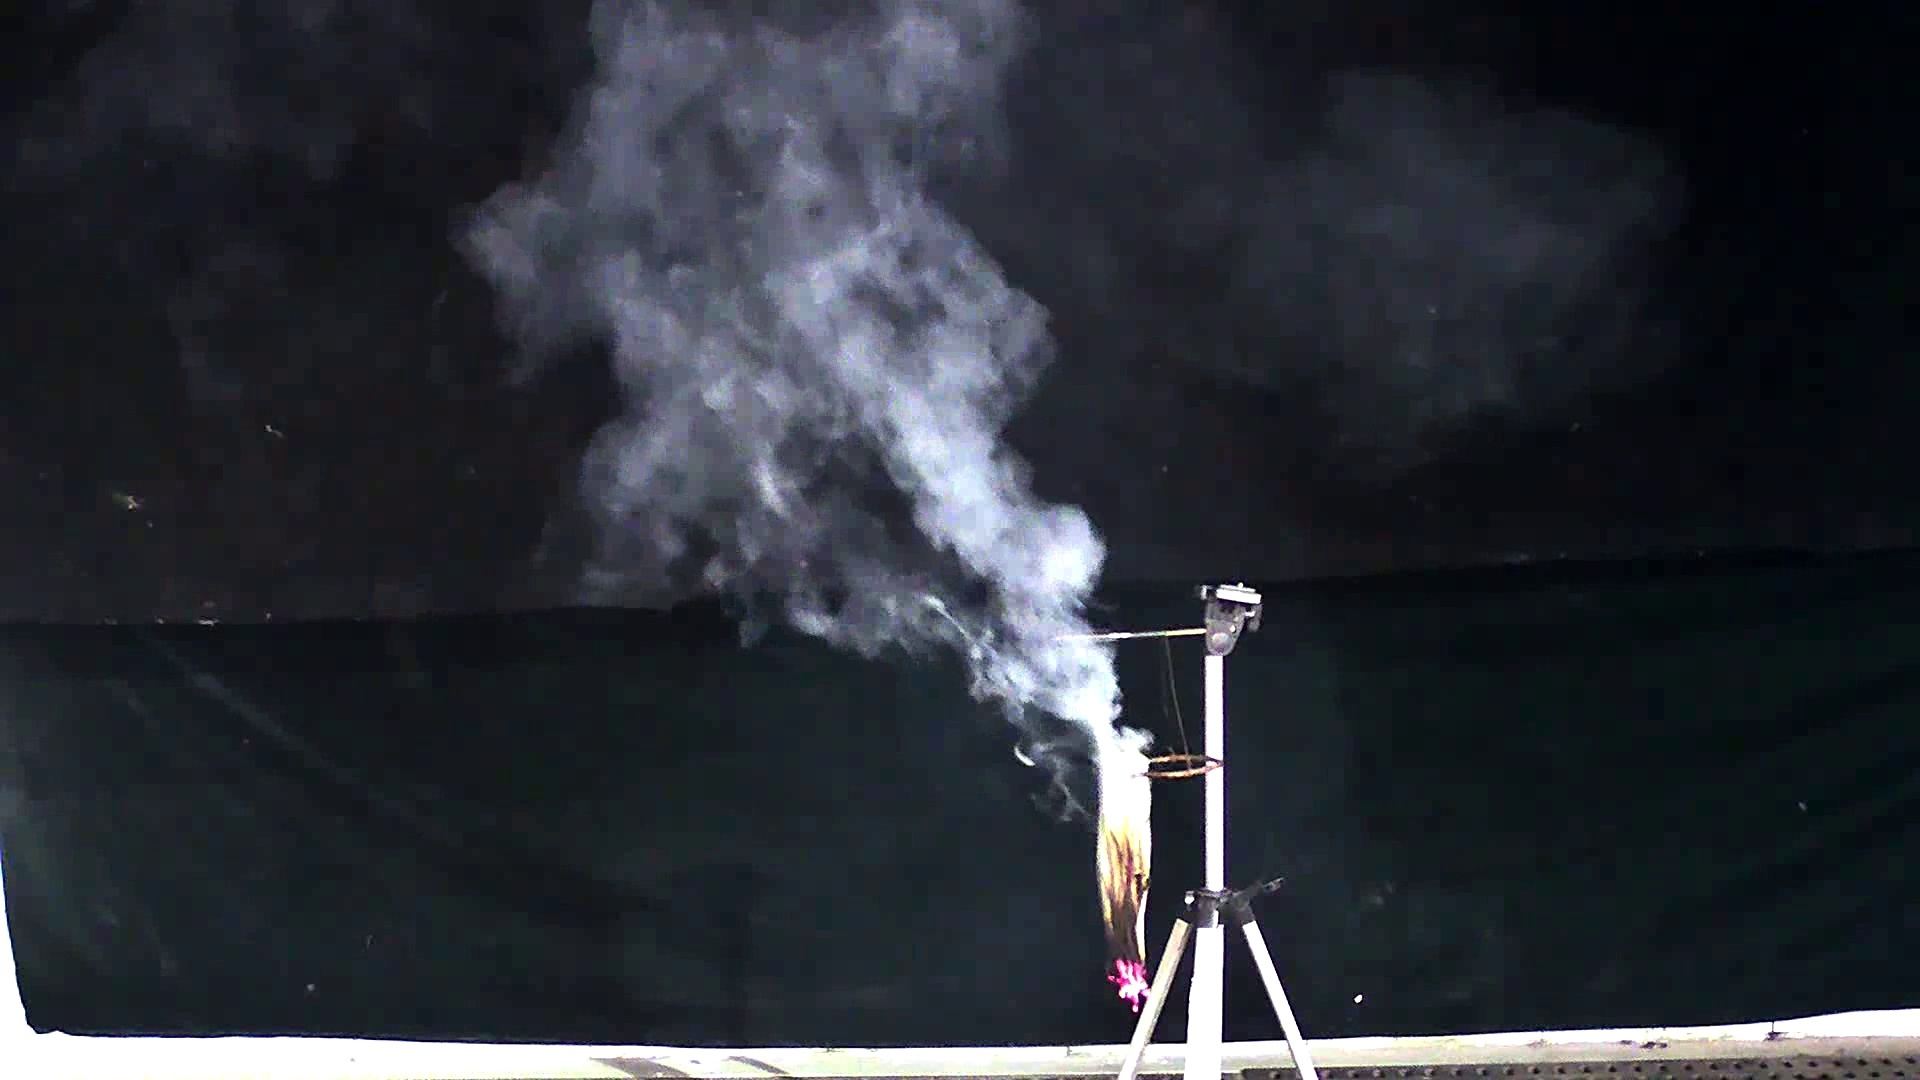smoke: (431, 26, 1171, 825)
